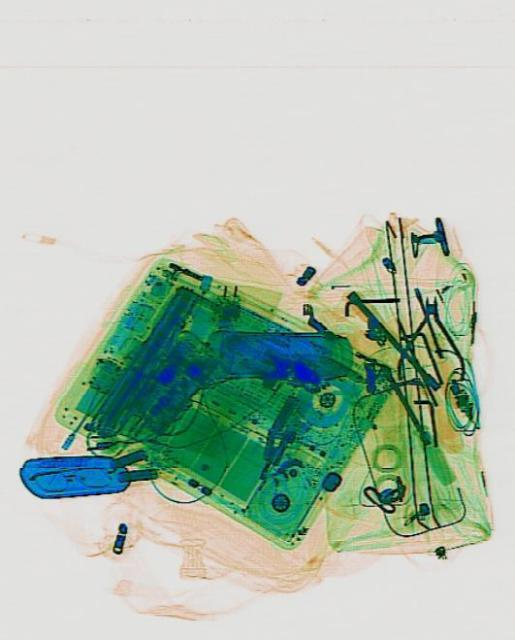Pliers: (393, 294, 463, 382)
